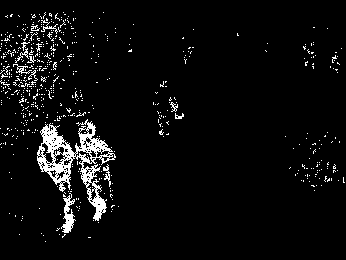person: (73, 119, 117, 222), (37, 123, 76, 237)
